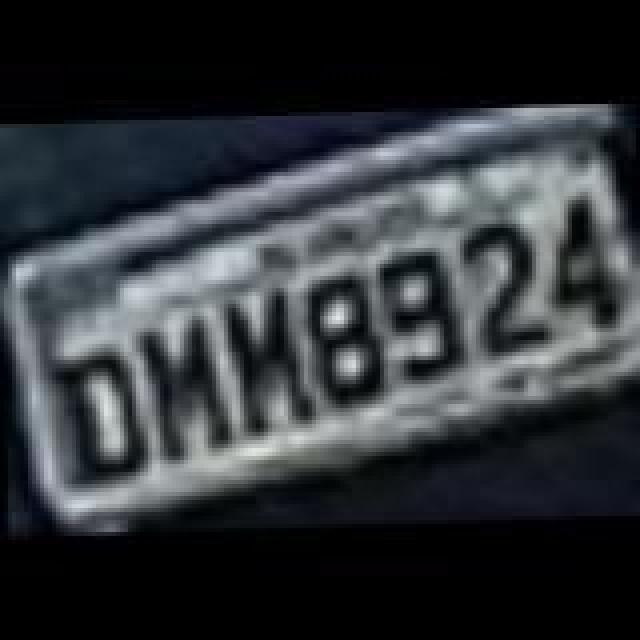2: (454, 214, 554, 362)
4: (540, 184, 628, 336)
8: (300, 264, 388, 408)
9: (374, 244, 466, 380)
D: (58, 340, 150, 492)
M: (222, 280, 322, 440), (134, 304, 234, 464)
